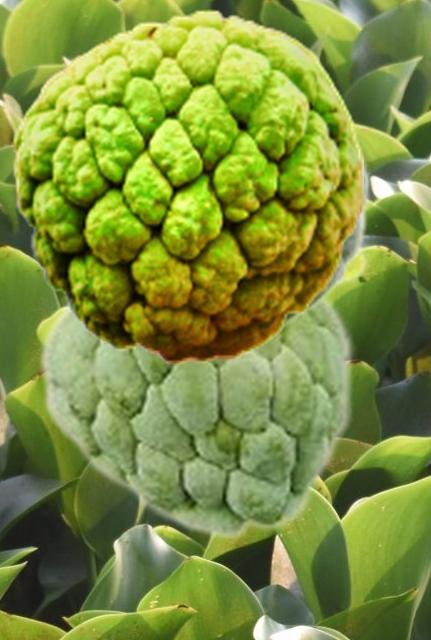atis: (11, 8, 362, 364), (36, 242, 370, 540), (136, 142, 372, 354)
